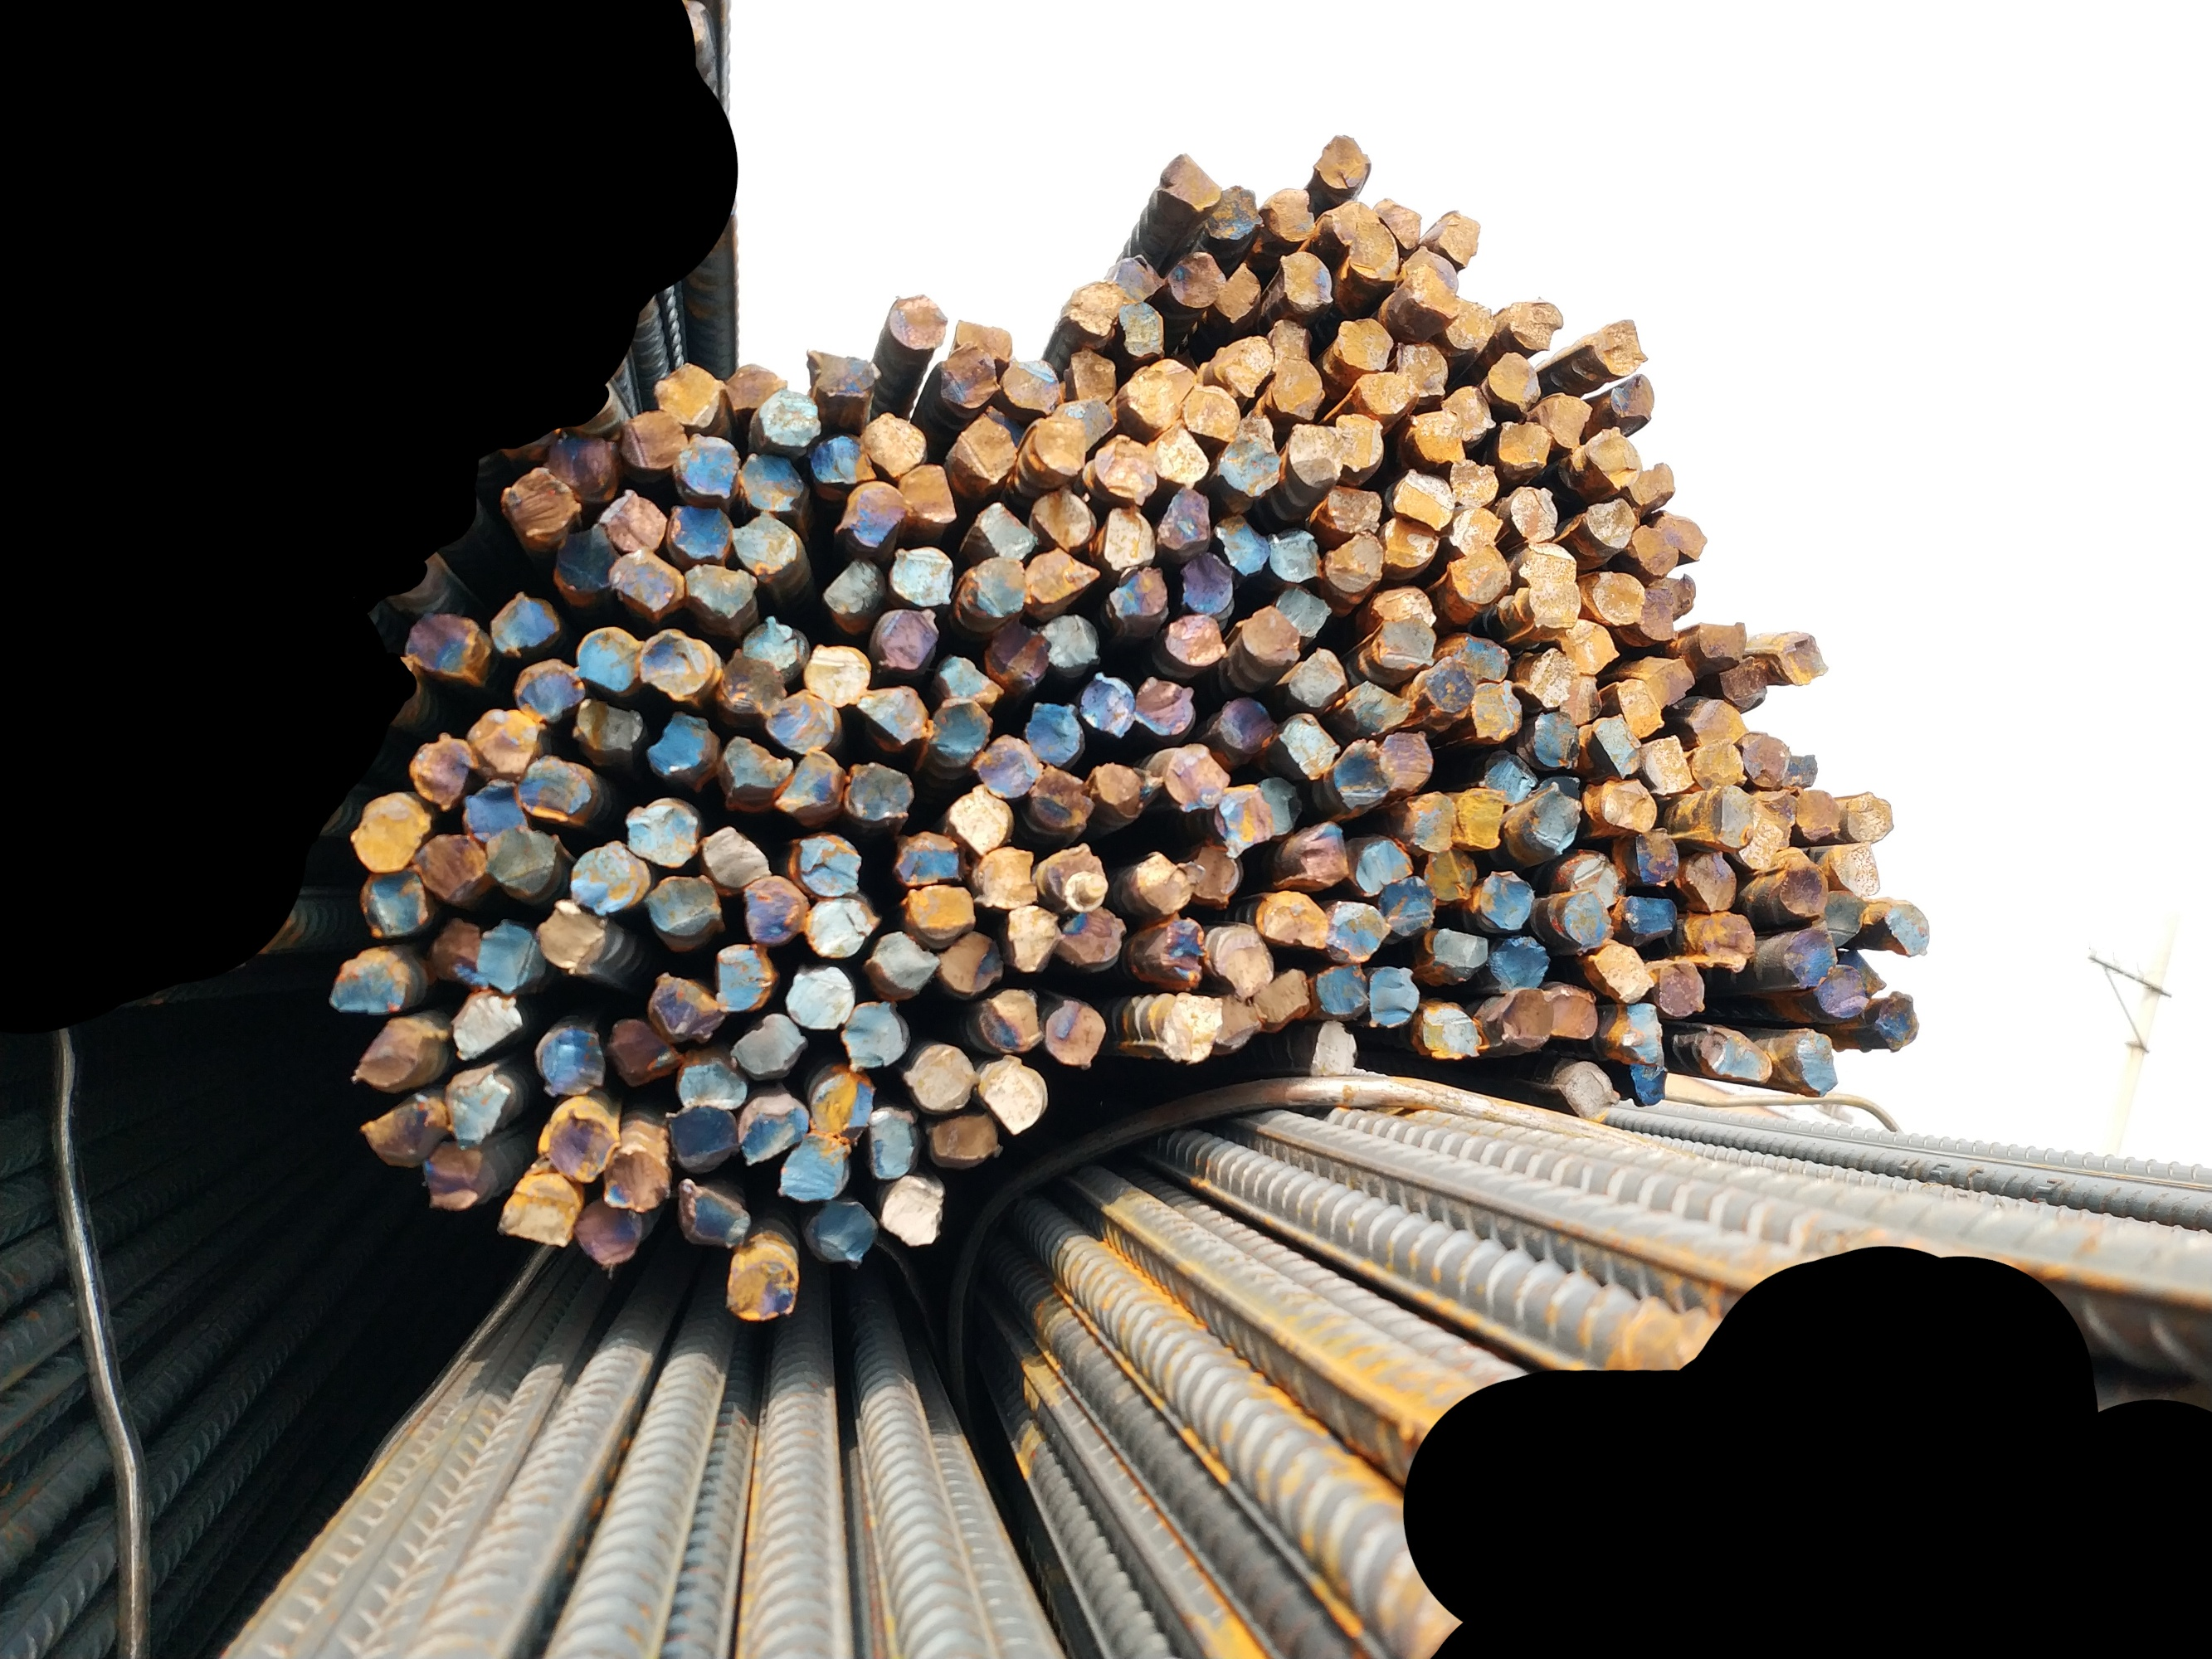rebar: (490, 1164, 580, 1251), (352, 1094, 451, 1171), (349, 788, 431, 877), (565, 838, 650, 917), (535, 1110, 624, 1183), (502, 464, 584, 542), (532, 1019, 608, 1103), (462, 702, 546, 779), (467, 920, 549, 997), (347, 1018, 432, 1091), (722, 1246, 800, 1324), (899, 1037, 978, 1115), (640, 626, 720, 702), (772, 742, 849, 823), (401, 610, 485, 683), (603, 1012, 682, 1089), (410, 829, 488, 906), (479, 824, 561, 897), (638, 868, 722, 939), (356, 866, 431, 945), (547, 429, 628, 502), (444, 990, 526, 1061), (438, 1066, 512, 1143), (1150, 990, 1225, 1066), (774, 1131, 852, 1204), (518, 751, 596, 824), (621, 796, 701, 868), (607, 544, 687, 615), (422, 1143, 499, 1216), (675, 1178, 753, 1249), (727, 1007, 805, 1079), (974, 1056, 1046, 1134), (408, 732, 479, 810), (1327, 737, 1398, 816), (952, 404, 1020, 486), (535, 899, 608, 974), (736, 1100, 812, 1171), (553, 521, 621, 601), (807, 1197, 880, 1270), (779, 962, 854, 1033), (648, 971, 725, 1040), (802, 892, 879, 962), (765, 687, 842, 756), (661, 1105, 741, 1171), (572, 1195, 643, 1269), (715, 648, 788, 720), (875, 1178, 945, 1253), (739, 871, 809, 946), (788, 829, 863, 899), (948, 782, 1018, 857), (727, 504, 797, 579), (1156, 742, 1231, 812), (509, 657, 586, 725), (856, 681, 934, 748), (322, 958, 410, 1018), (838, 1002, 910, 1073), (838, 476, 910, 547), (641, 709, 715, 779), (619, 404, 692, 474), (655, 357, 725, 430), (854, 410, 927, 479), (708, 938, 776, 1012), (1255, 890, 1330, 958), (1210, 782, 1276, 859), (671, 430, 743, 500), (697, 823, 770, 890), (842, 760, 915, 828), (934, 340, 1001, 415), (797, 641, 872, 708), (903, 878, 980, 943), (926, 695, 995, 765), (1089, 432, 1159, 502), (573, 622, 641, 694), (870, 606, 941, 674), (969, 847, 1041, 915), (804, 1070, 877, 1136), (967, 735, 1042, 800), (1023, 545, 1102, 606), (985, 624, 1055, 692), (1025, 763, 1093, 833), (978, 983, 1044, 1054), (458, 779, 532, 843), (1215, 929, 1278, 1004), (596, 1152, 673, 1213), (680, 561, 757, 622), (1175, 552, 1243, 620), (936, 927, 1006, 993), (873, 929, 940, 999), (1211, 690, 1281, 756), (669, 1054, 750, 1112), (594, 488, 666, 552), (1044, 997, 1109, 1068), (757, 387, 830, 450), (720, 734, 795, 795), (804, 345, 882, 403), (1021, 699, 1089, 765), (1236, 606, 1304, 673), (736, 450, 807, 512), (863, 1105, 919, 1185), (1055, 906, 1128, 967), (1290, 816, 1351, 889), (573, 697, 648, 756), (1279, 708, 1339, 782), (1327, 896, 1393, 962), (1143, 423, 1210, 490), (1218, 429, 1285, 495), (1030, 484, 1095, 552), (1469, 870, 1537, 934), (1149, 917, 1204, 995), (892, 828, 964, 889), (1537, 767, 1588, 852), (887, 544, 953, 608), (1131, 674, 1196, 741), (1281, 647, 1347, 711), (894, 458, 957, 526), (1095, 504, 1157, 572), (1044, 845, 1107, 913), (1400, 788, 1462, 856), (967, 552, 1028, 622), (1157, 152, 1227, 213), (1694, 1030, 1773, 1084), (1363, 960, 1422, 1032), (1389, 467, 1454, 532), (821, 559, 887, 622), (971, 500, 1037, 563), (1414, 1004, 1480, 1066), (1250, 965, 1311, 1033), (1131, 852, 1199, 913), (1445, 544, 1513, 605), (1337, 681, 1414, 735), (1063, 279, 1133, 338), (1079, 671, 1137, 742), (1286, 420, 1344, 491), (805, 430, 880, 484), (1494, 985, 1557, 1049), (1351, 836, 1415, 899), (1325, 530, 1388, 594), (1025, 418, 1089, 481), (492, 592, 558, 653), (666, 500, 732, 561), (1154, 484, 1215, 551), (1518, 645, 1579, 711), (427, 915, 486, 983), (1089, 760, 1157, 819), (1375, 725, 1435, 793), (1372, 610, 1440, 669), (1123, 362, 1180, 432), (741, 613, 805, 674), (884, 293, 950, 352), (1487, 934, 1553, 993), (1173, 383, 1239, 443), (1583, 425, 1642, 491), (1700, 910, 1759, 976), (1002, 904, 1060, 972), (1213, 509, 1271, 577), (1469, 674, 1527, 742), (1584, 709, 1642, 777), (931, 1112, 1002, 1166), (1374, 877, 1436, 938), (1419, 843, 1480, 906), (1426, 925, 1490, 985), (1265, 523, 1325, 587), (1591, 943, 1656, 1002), (1555, 1061, 1619, 1121), (1780, 925, 1839, 990), (934, 652, 1002, 708), (1185, 843, 1241, 911), (1551, 887, 1611, 950), (1415, 655, 1475, 718), (1309, 134, 1374, 192), (1035, 613, 1102, 669), (1161, 613, 1227, 669), (1218, 333, 1274, 399), (1271, 354, 1327, 420), (1581, 319, 1647, 375), (1809, 960, 1870, 1019), (1170, 247, 1227, 310), (1534, 389, 1591, 451), (1609, 676, 1666, 739), (1684, 849, 1740, 913), (1332, 312, 1391, 371), (1001, 356, 1062, 413), (1522, 789, 1579, 850), (1276, 249, 1333, 310), (1558, 617, 1619, 674), (1829, 840, 1886, 901), (1206, 990, 1260, 1054), (1529, 708, 1583, 772), (1333, 410, 1386, 476), (1790, 1030, 1841, 1098), (1204, 183, 1264, 240), (1438, 295, 1496, 354), (1525, 575, 1583, 634), (1588, 568, 1645, 627), (1598, 775, 1658, 833), (1107, 565, 1168, 620), (1455, 784, 1504, 854), (1370, 580, 1440, 629), (1408, 408, 1469, 464), (1642, 734, 1696, 796), (1548, 981, 1600, 1046), (725, 362, 791, 413), (1351, 368, 1419, 416), (1480, 746, 1537, 803), (1306, 1021, 1361, 1080), (1114, 301, 1170, 361), (1440, 383, 1496, 443), (1579, 497, 1639, 552), (1637, 653, 1696, 709), (1876, 901, 1935, 957), (1741, 730, 1795, 791), (1569, 847, 1619, 911), (1349, 218, 1398, 284), (1405, 263, 1459, 322), (1778, 859, 1832, 918), (1654, 957, 1706, 1018), (1211, 260, 1262, 322), (1706, 784, 1755, 849), (1687, 699, 1752, 748), (1774, 633, 1830, 688), (1314, 962, 1368, 1019), (1276, 580, 1330, 638), (1325, 484, 1384, 537), (1508, 483, 1560, 542), (1691, 739, 1750, 791), (1382, 518, 1442, 570), (1398, 338, 1449, 399), (1449, 633, 1511, 681), (1257, 774, 1304, 838), (1067, 345, 1121, 401), (1496, 418, 1551, 472), (1693, 615, 1748, 669), (1504, 301, 1564, 352), (1487, 350, 1537, 410), (1632, 521, 1682, 580), (1621, 892, 1680, 943), (1816, 887, 1867, 946), (1105, 251, 1166, 300), (953, 315, 1016, 362), (1435, 207, 1482, 270), (1754, 786, 1801, 849), (1403, 242, 1459, 295), (1447, 455, 1503, 507), (1265, 186, 1316, 244), (1625, 457, 1675, 514), (1056, 396, 1116, 444), (1618, 1004, 1666, 1063), (1844, 789, 1896, 843), (1652, 511, 1708, 561), (1449, 504, 1504, 554), (1264, 317, 1313, 375), (1633, 826, 1680, 885), (1738, 812, 1785, 871), (1142, 354, 1203, 399), (1633, 582, 1677, 645), (1604, 375, 1659, 423), (1719, 659, 1771, 709), (1794, 786, 1842, 840), (1325, 200, 1381, 247), (1876, 993, 1921, 1051), (1518, 542, 1578, 586), (1553, 673, 1604, 723), (1652, 573, 1701, 624), (1835, 948, 1886, 997), (1377, 200, 1424, 253), (1626, 1060, 1672, 1107), (1781, 753, 1820, 791)
